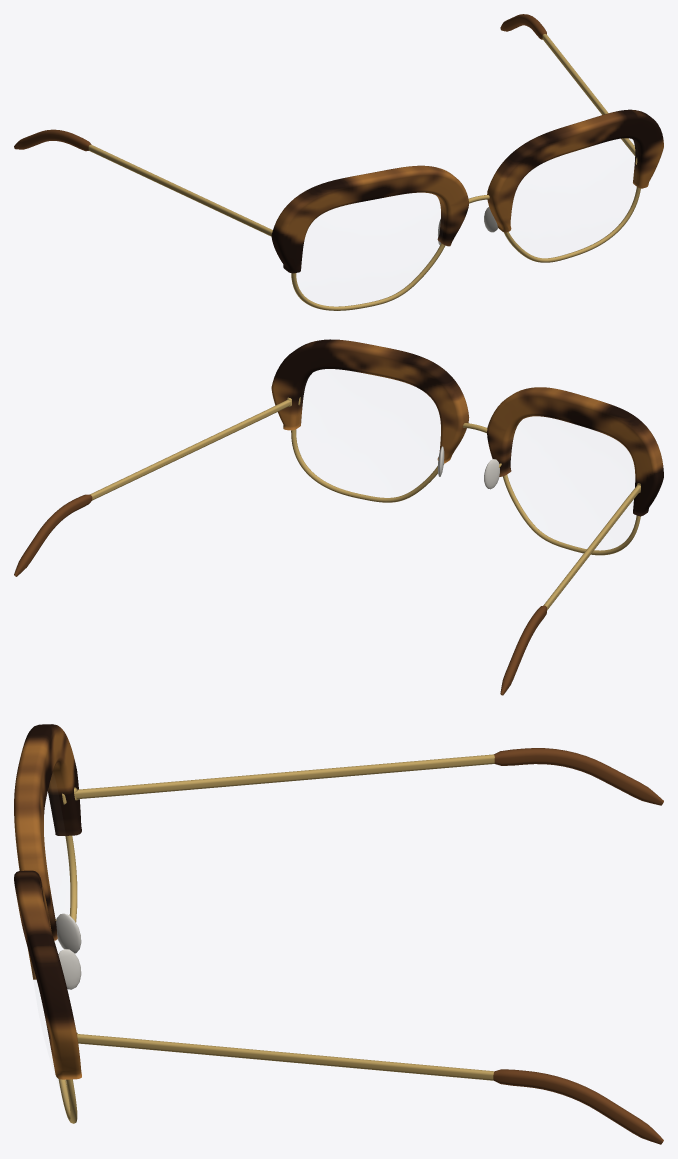
Rendered from browline.glb.
The picture shows the model from 3 angles, top to bottom: view 1: azimuth 30°, elevation 25°; view 2: azimuth 150°, elevation 25°; view 3: azimuth 270°, elevation 25°; orthographic projection. The views are drawn at different scales.
Visible parts, largest first — view 1: glasses; view 2: glasses; view 3: glasses.
Boxes of the visible parts, x1,y1,x2,y2 form: glasses: (14,14,663,310); glasses: (14,339,663,695); glasses: (14,724,663,1144).
Size of the model in its own units: 0.173 by 0.048 by 0.1388.
Materials: 2 (1 with a texture image).
